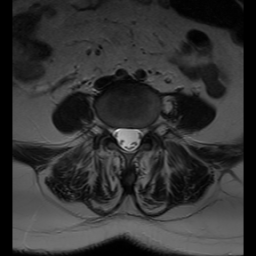CCS_normal: (123, 119, 134, 160)
LFS_normal: (143, 116, 152, 141)
LLS_normal: (134, 119, 143, 153)
RFS_stenosis: (104, 113, 112, 142)
RLS_normal: (113, 118, 123, 153)
